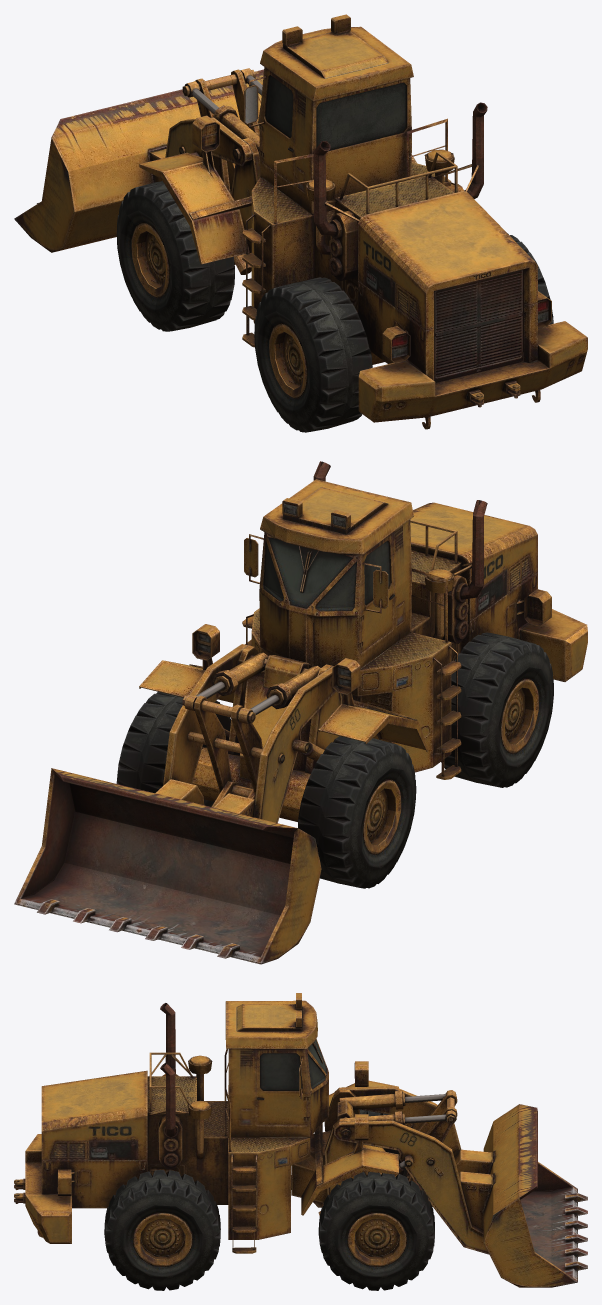
The model's file is front loader.glb.
3 renders of one model, top to bottom at view 1: azimuth 30°, elevation 25°; view 2: azimuth 150°, elevation 25°; view 3: azimuth 270°, elevation 25°, orthographic. The views are drawn at different scales.
Visible parts, largest first — view 1: V1N7UXYIRG88C7FZ1IZVMQTR9.124, V1N7UXYIRG88C7FZ1IZVMQTR9.082, V1N7UXYIRG88C7FZ1IZVMQTR9.055, V1N7UXYIRG88C7FZ1IZVMQTR9.074, V1N7UXYIRG88C7FZ1IZVMQTR9.264, V1N7UXYIRG88C7FZ1IZVMQTR9.270, V1N7UXYIRG88C7FZ1IZVMQTR9.191, V1N7UXYIRG88C7FZ1IZVMQTR9.081, V1N7UXYIRG88C7FZ1IZVMQTR9.122, V1N7UXYIRG88C7FZ1IZVMQTR9.162, V1N7UXYIRG88C7FZ1IZVMQTR9.111, V1N7UXYIRG88C7FZ1IZVMQTR9.163 (+14 smaller); view 2: V1N7UXYIRG88C7FZ1IZVMQTR9.082, V1N7UXYIRG88C7FZ1IZVMQTR9.074, V1N7UXYIRG88C7FZ1IZVMQTR9.055, V1N7UXYIRG88C7FZ1IZVMQTR9.124, V1N7UXYIRG88C7FZ1IZVMQTR9.139, V1N7UXYIRG88C7FZ1IZVMQTR9.098, V1N7UXYIRG88C7FZ1IZVMQTR9.174, V1N7UXYIRG88C7FZ1IZVMQTR9.264, V1N7UXYIRG88C7FZ1IZVMQTR9.020, V1N7UXYIRG88C7FZ1IZVMQTR9.024, V1N7UXYIRG88C7FZ1IZVMQTR9.162, V1N7UXYIRG88C7FZ1IZVMQTR9.137 (+20 smaller); view 3: V1N7UXYIRG88C7FZ1IZVMQTR9.082, V1N7UXYIRG88C7FZ1IZVMQTR9.124, V1N7UXYIRG88C7FZ1IZVMQTR9.012, V1N7UXYIRG88C7FZ1IZVMQTR9.020, V1N7UXYIRG88C7FZ1IZVMQTR9.098, V1N7UXYIRG88C7FZ1IZVMQTR9.264, V1N7UXYIRG88C7FZ1IZVMQTR9.182, V1N7UXYIRG88C7FZ1IZVMQTR9.176, V1N7UXYIRG88C7FZ1IZVMQTR9.162, V1N7UXYIRG88C7FZ1IZVMQTR9.024, V1N7UXYIRG88C7FZ1IZVMQTR9.037, V1N7UXYIRG88C7FZ1IZVMQTR9.163 (+16 smaller).
Part boxes in pixels (<box>): V1N7UXYIRG88C7FZ1IZVMQTR9.124: <box>358,191,537,380</box>; V1N7UXYIRG88C7FZ1IZVMQTR9.082: <box>14,69,263,252</box>; V1N7UXYIRG88C7FZ1IZVMQTR9.055: <box>254,277,372,432</box>; V1N7UXYIRG88C7FZ1IZVMQTR9.074: <box>116,181,234,331</box>; V1N7UXYIRG88C7FZ1IZVMQTR9.264: <box>259,67,411,214</box>; V1N7UXYIRG88C7FZ1IZVMQTR9.270: <box>434,270,523,382</box>; V1N7UXYIRG88C7FZ1IZVMQTR9.191: <box>358,337,587,422</box>; V1N7UXYIRG88C7FZ1IZVMQTR9.081: <box>139,152,249,264</box>; V1N7UXYIRG88C7FZ1IZVMQTR9.122: <box>316,82,407,151</box>; V1N7UXYIRG88C7FZ1IZVMQTR9.162: <box>251,162,454,224</box>; V1N7UXYIRG88C7FZ1IZVMQTR9.111: <box>272,198,360,312</box>; V1N7UXYIRG88C7FZ1IZVMQTR9.163: <box>360,321,586,396</box>; V1N7UXYIRG88C7FZ1IZVMQTR9.082: <box>14,768,321,964</box>; V1N7UXYIRG88C7FZ1IZVMQTR9.074: <box>298,736,416,888</box>; V1N7UXYIRG88C7FZ1IZVMQTR9.055: <box>441,632,553,787</box>; V1N7UXYIRG88C7FZ1IZVMQTR9.124: <box>410,502,537,649</box>; V1N7UXYIRG88C7FZ1IZVMQTR9.139: <box>259,532,361,667</box>; V1N7UXYIRG88C7FZ1IZVMQTR9.098: <box>163,644,335,822</box>; V1N7UXYIRG88C7FZ1IZVMQTR9.174: <box>392,642,451,772</box>; V1N7UXYIRG88C7FZ1IZVMQTR9.264: <box>359,519,411,669</box>; V1N7UXYIRG88C7FZ1IZVMQTR9.020: <box>116,691,230,806</box>; V1N7UXYIRG88C7FZ1IZVMQTR9.024: <box>227,645,342,780</box>; V1N7UXYIRG88C7FZ1IZVMQTR9.162: <box>251,550,461,670</box>; V1N7UXYIRG88C7FZ1IZVMQTR9.137: <box>268,537,353,609</box>; V1N7UXYIRG88C7FZ1IZVMQTR9.082: <box>454,1104,577,1287</box>; V1N7UXYIRG88C7FZ1IZVMQTR9.124: <box>41,1070,147,1208</box>; V1N7UXYIRG88C7FZ1IZVMQTR9.012: <box>104,1170,220,1290</box>; V1N7UXYIRG88C7FZ1IZVMQTR9.020: <box>318,1171,434,1290</box>; V1N7UXYIRG88C7FZ1IZVMQTR9.098: <box>334,1086,489,1254</box>; V1N7UXYIRG88C7FZ1IZVMQTR9.264: <box>228,1048,310,1137</box>; V1N7UXYIRG88C7FZ1IZVMQTR9.182: <box>228,1146,290,1239</box>; V1N7UXYIRG88C7FZ1IZVMQTR9.176: <box>147,1112,228,1204</box>; V1N7UXYIRG88C7FZ1IZVMQTR9.162: <box>147,1076,309,1152</box>; V1N7UXYIRG88C7FZ1IZVMQTR9.024: <box>291,1089,385,1202</box>; V1N7UXYIRG88C7FZ1IZVMQTR9.037: <box>301,1147,398,1215</box>; V1N7UXYIRG88C7FZ1IZVMQTR9.163: <box>25,1134,71,1243</box>.
Size of the model in its own units: 2.99 by 3.62 by 7.72.
2 materials, 2 textured.
